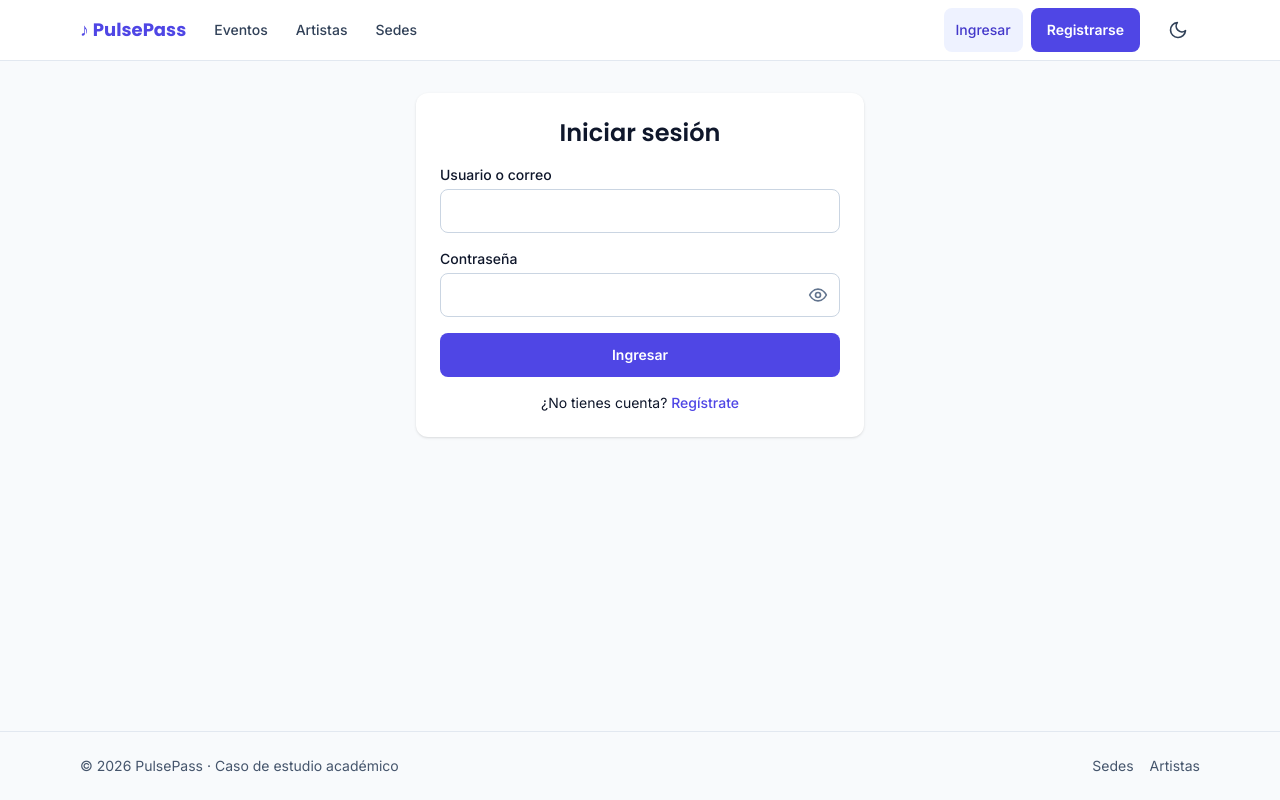
Scenario: Autenticación › TEST-FE-AUTH-002: login 401 → "Credenciales inválidas"
Type "andrea" into the field labelled "Usuario o correo".
click(640, 211); type("andrea")  # box 440,189 -> 840,233
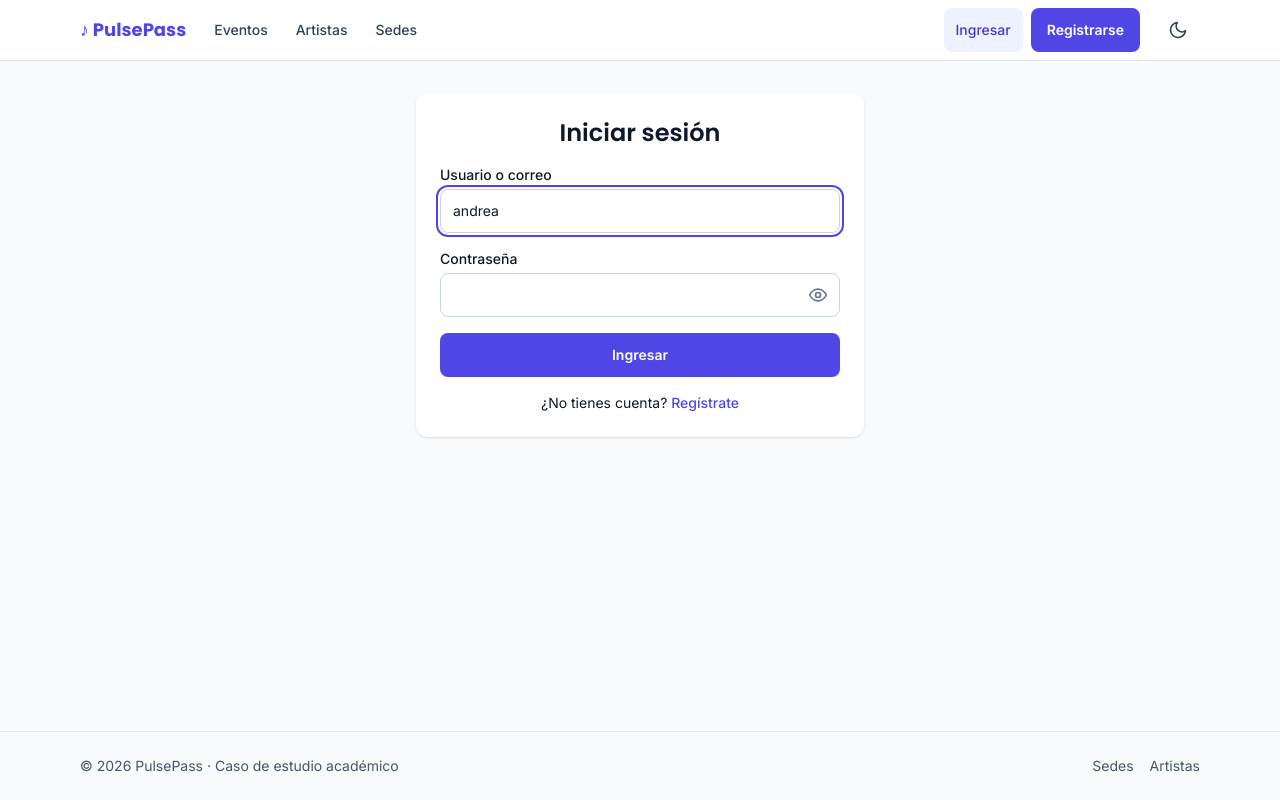
Type "contraseña-incorrecta" into the password field labelled "Contraseña".
click(640, 295); type("contraseña-incorrecta")  # box 440,273 -> 840,317
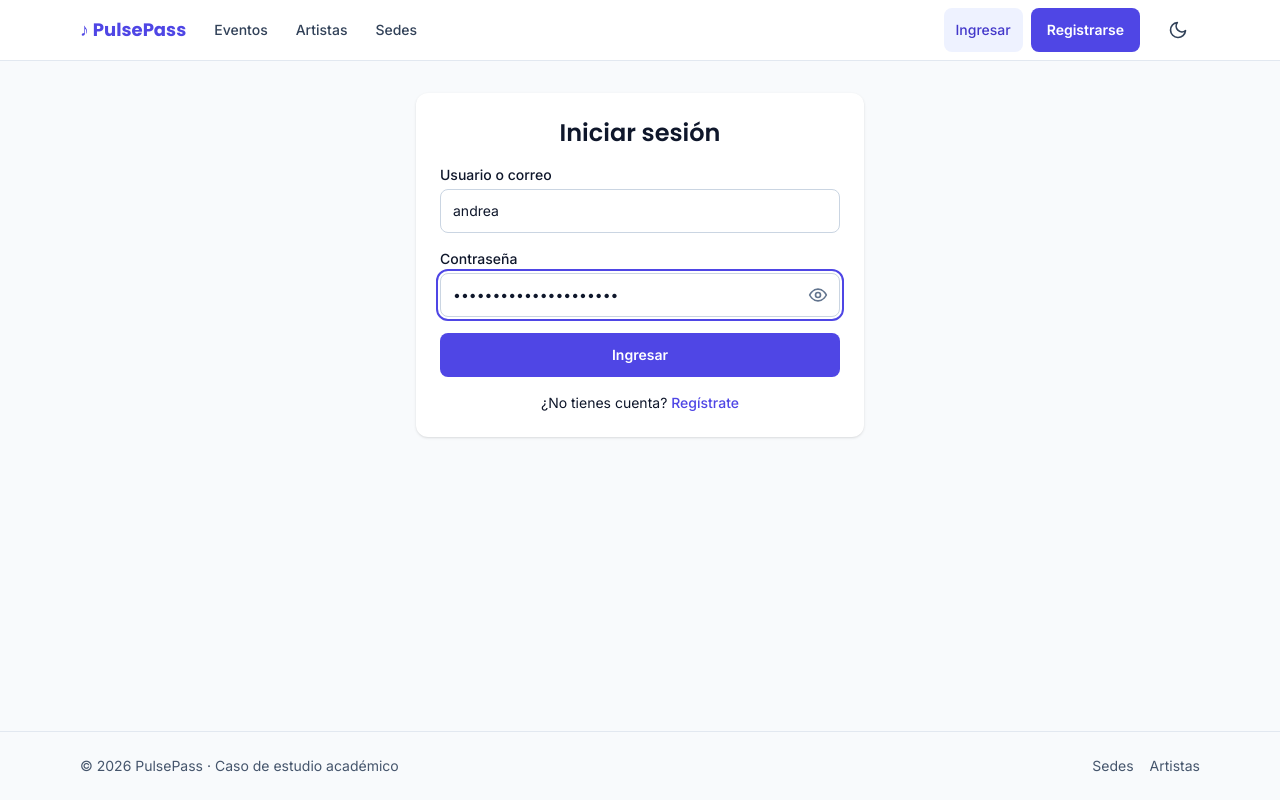
Click the button "Ingresar".
click(640, 355)  # box 440,333 -> 840,377
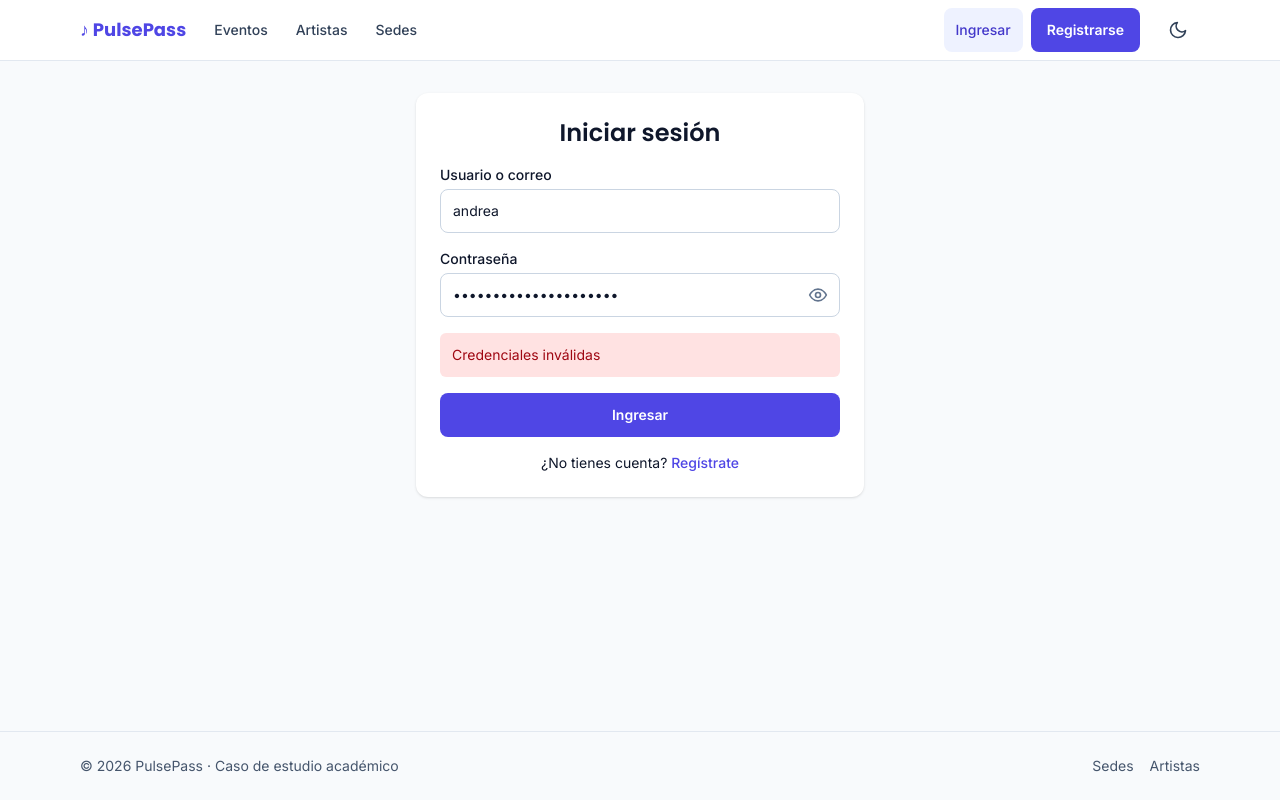
Result: the text "Credenciales inválidas" is shown at 440,333 -> 840,377
